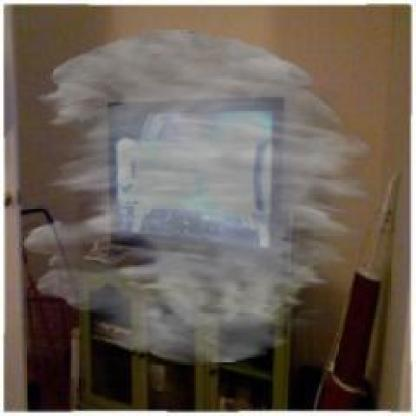Smoke: (22, 29, 377, 364)
